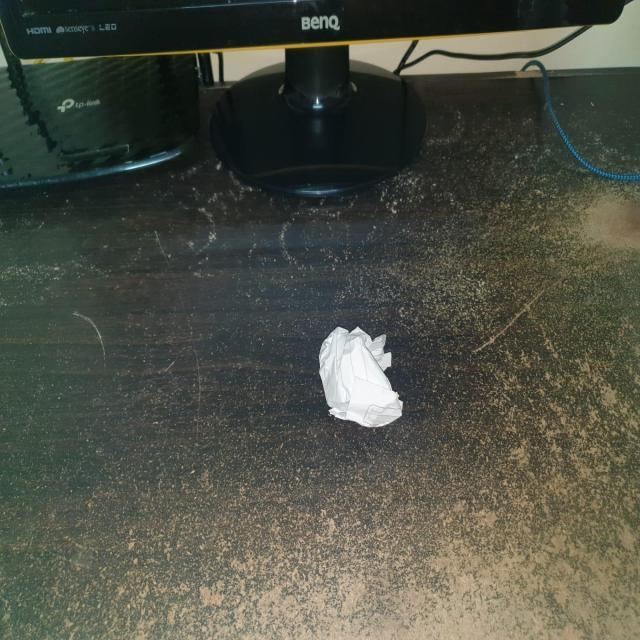cardboard paper: (318, 326, 401, 425)
